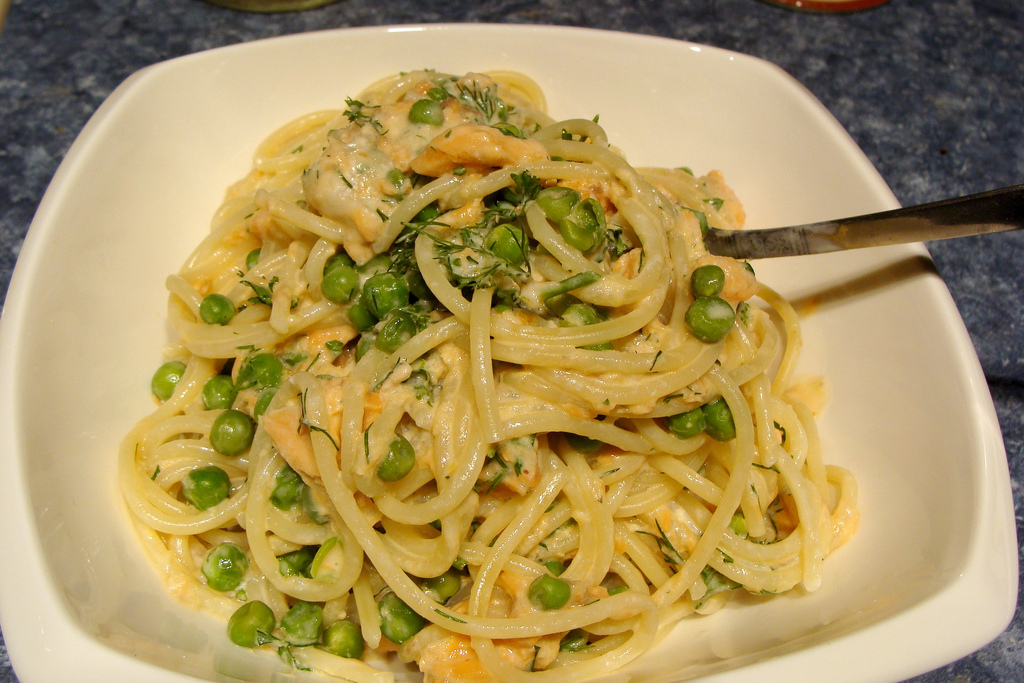boiled peas: (317, 257, 444, 338), (221, 598, 347, 654), (194, 378, 257, 450), (539, 189, 607, 249), (693, 257, 735, 346), (668, 399, 746, 442), (480, 221, 533, 272), (374, 597, 422, 644), (180, 466, 233, 508), (374, 431, 413, 479), (524, 571, 571, 610), (193, 297, 239, 325)
plain spaghetti: (142, 114, 849, 666)
